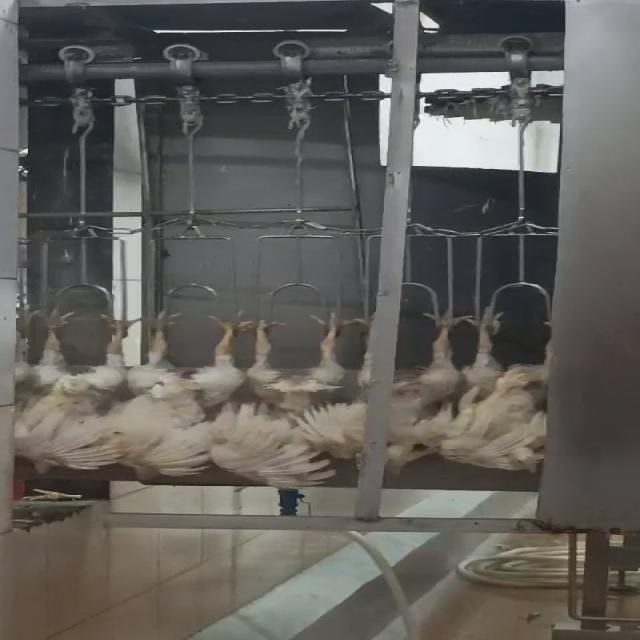chicken: (107, 312, 261, 486), (236, 307, 374, 495), (0, 310, 149, 480), (336, 306, 459, 475), (457, 308, 557, 480)
